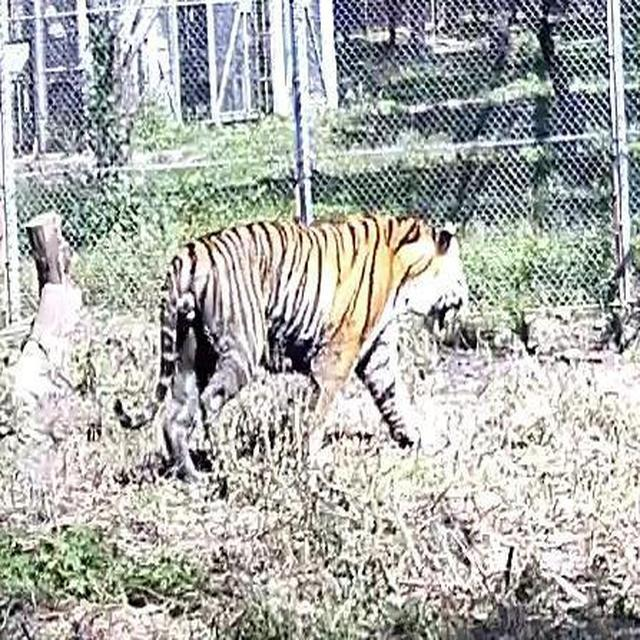tiger: (148, 211, 468, 484)
